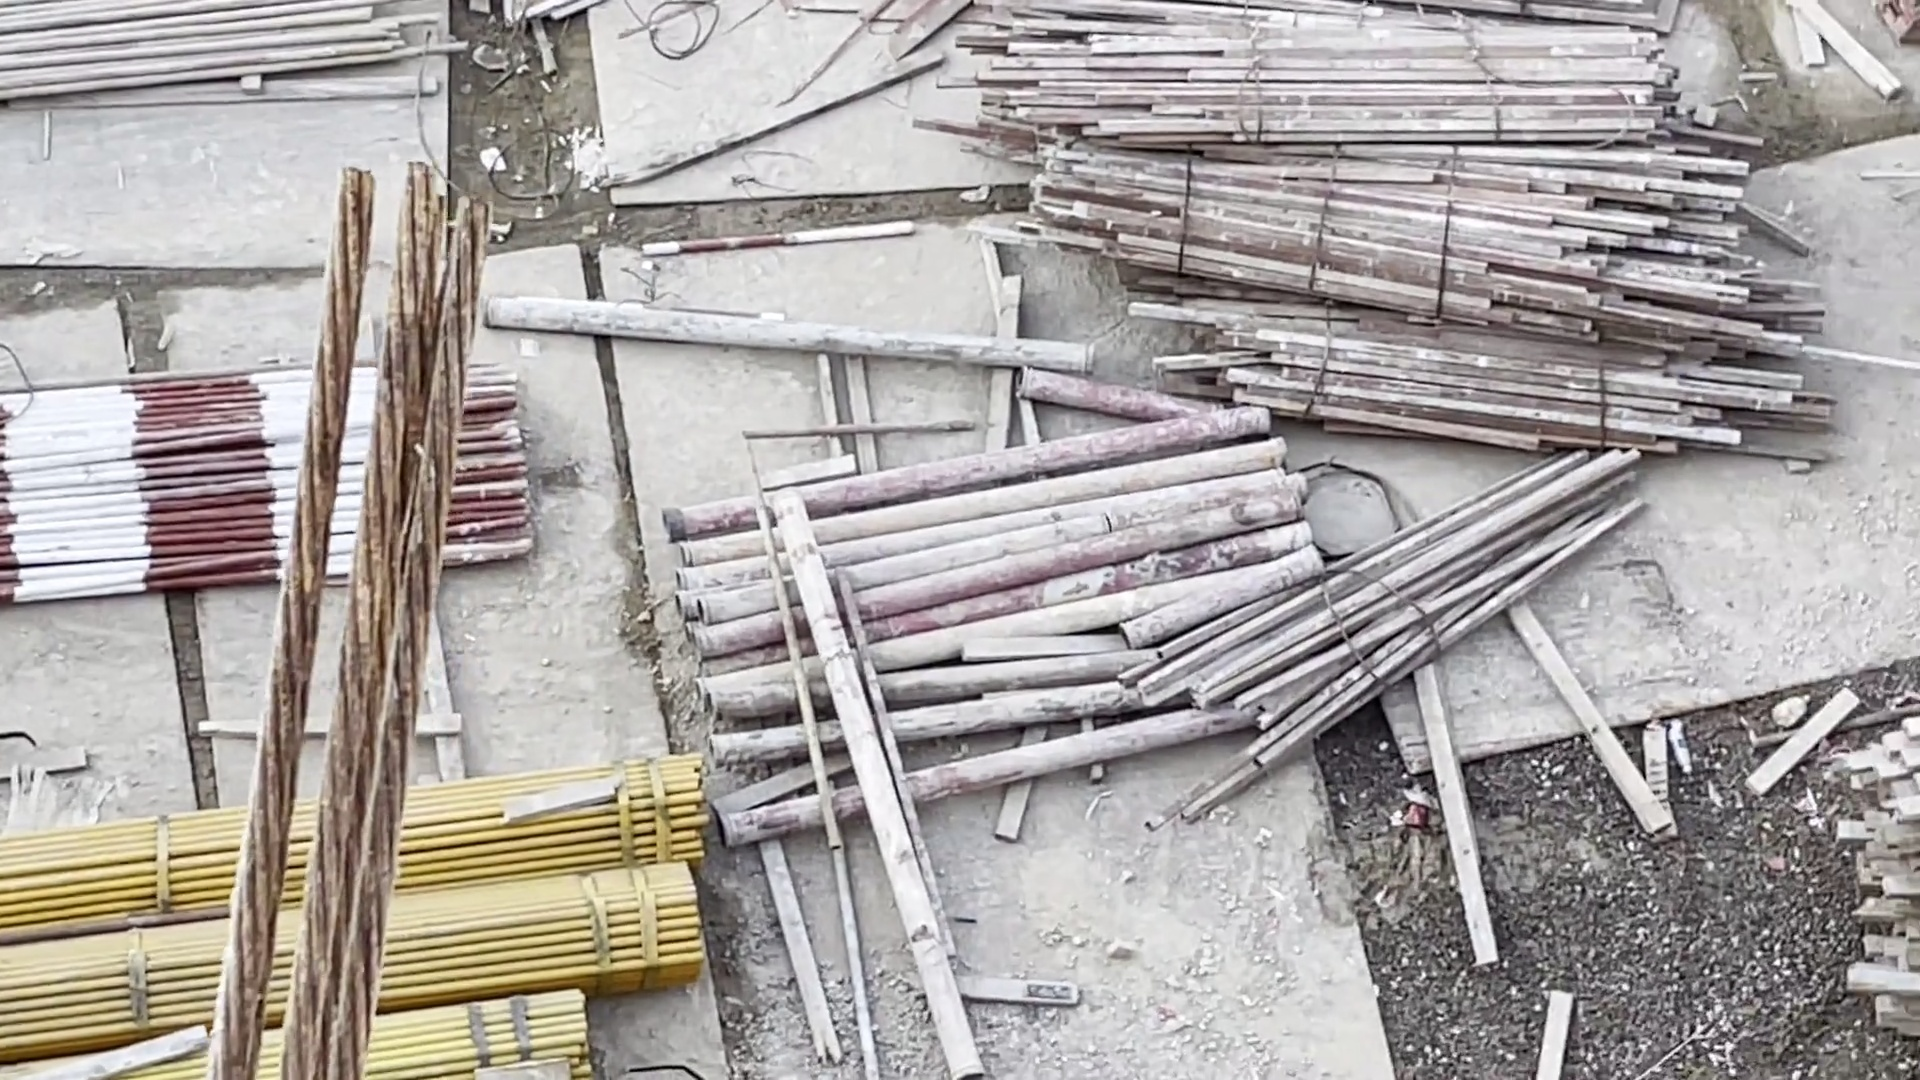scaffold: (661, 473, 1302, 851)
wood: (1006, 1, 1778, 423)
